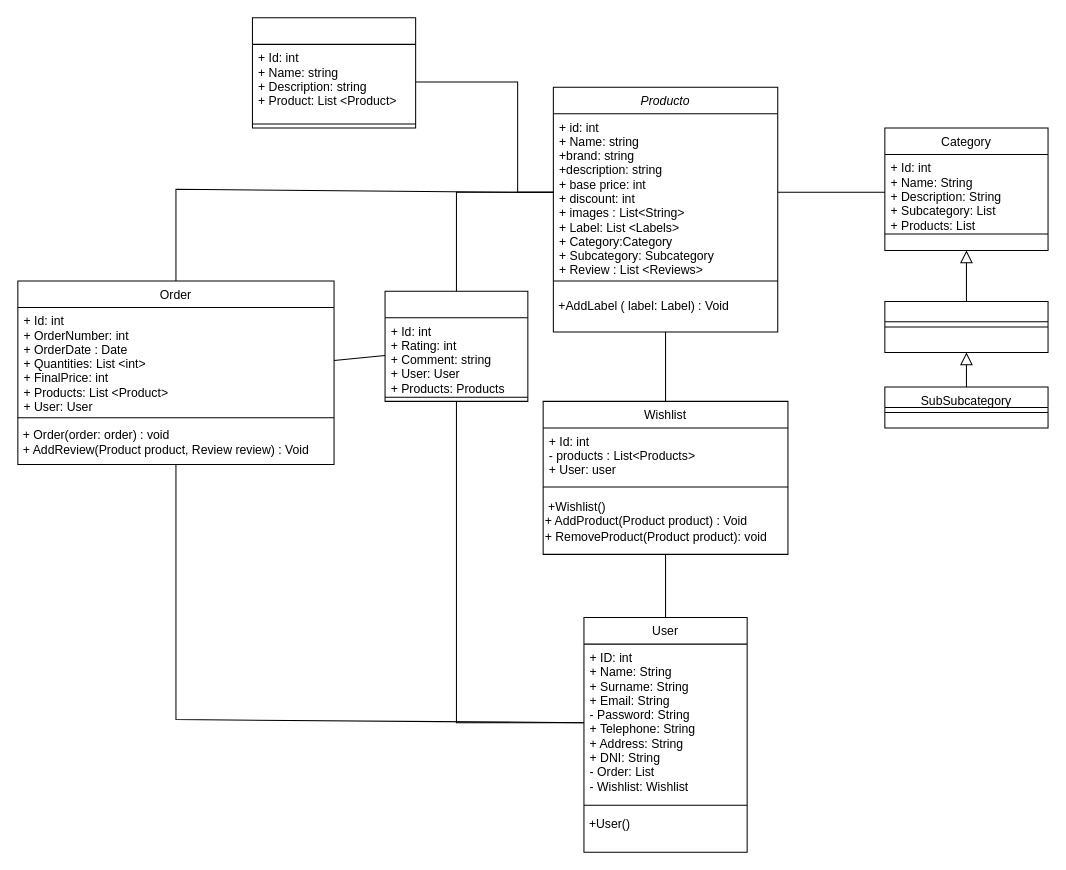
The diagram is 1066 pixels wide and 870 high, and some of its shapes have lost their labels. Each missing label, with the box of its shape:
Label: (251, 17, 416, 128)
Review: (384, 290, 528, 401)
Subcategory: (884, 300, 1048, 352)
